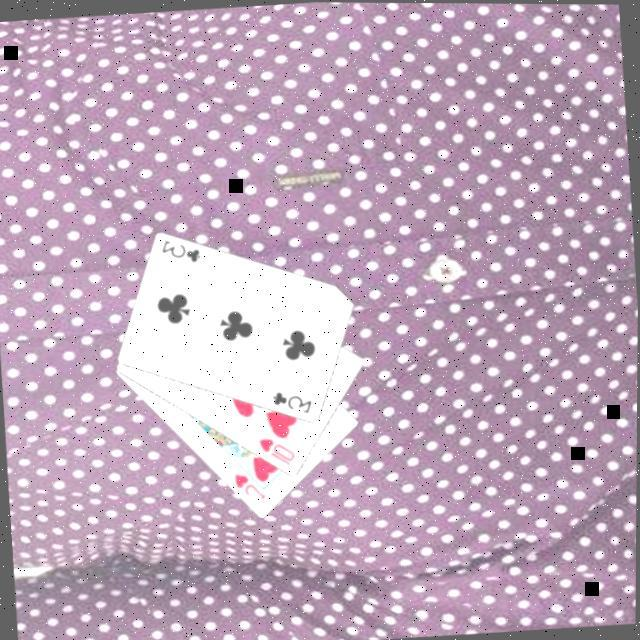10H: (257, 434, 300, 472)
3C: (269, 387, 317, 420), (159, 235, 205, 268)
JH: (232, 470, 270, 506)
